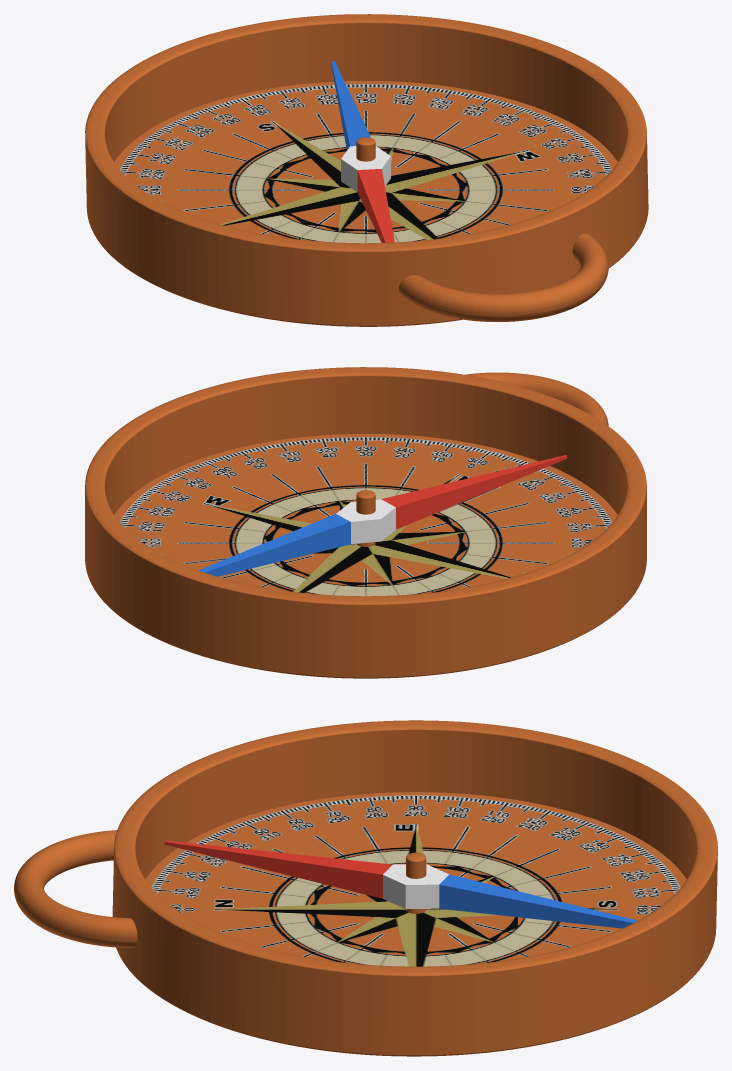
Rendered from Compass.glb.
3 renders of one model, top to bottom at view 1: azimuth 30°, elevation 25°; view 2: azimuth 150°, elevation 25°; view 3: azimuth 270°, elevation 25°, orthographic. The views are drawn at different scales.
Parts seen in each view (by area): view 1: Body, compassBG, Dial; view 2: Body, compassBG, Dial; view 3: Body, compassBG, Dial.
Boxes of the visible parts, <box> form: Body: <box>85,14,648,326</box>; compassBG: <box>119,84,612,243</box>; Dial: <box>331,61,394,242</box>; Body: <box>85,367,646,678</box>; compassBG: <box>119,437,612,596</box>; Dial: <box>198,455,567,576</box>; Body: <box>14,720,717,1056</box>; compassBG: <box>151,795,680,966</box>; Dial: <box>164,840,637,928</box>.
Bounding box in the file's own units: 3.98 × 0.6138 × 4.63.
Materials: 6 (1 with a texture image).
